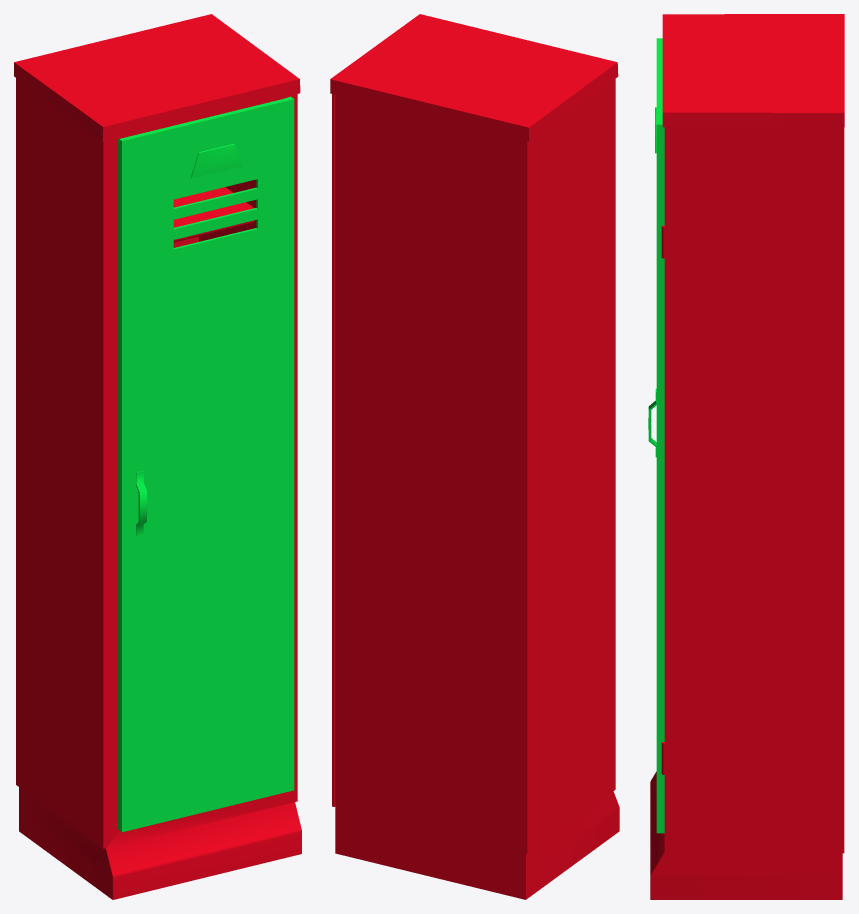
The model's file is ClosedLocker.FBX.
3 views of the same model, side by side, from view 1: azimuth 30°, elevation 25°; view 2: azimuth 150°, elevation 25°; view 3: azimuth 270°, elevation 25° (orthographic). The views are drawn at different scales.
Parts seen in each view (by area): view 1: LockerDoor, lockerBody; view 2: lockerBody; view 3: lockerBody, LockerDoor.
Part boxes in pixels (box(x1,y1,x2,y2)): LockerDoor: box(118, 96, 294, 832); lockerBody: box(14, 14, 301, 899); lockerBody: box(330, 14, 619, 899); lockerBody: box(650, 14, 844, 899); LockerDoor: box(648, 38, 664, 833).
Bounding box in the file's own units: 45.8 × 170 × 38.38.
